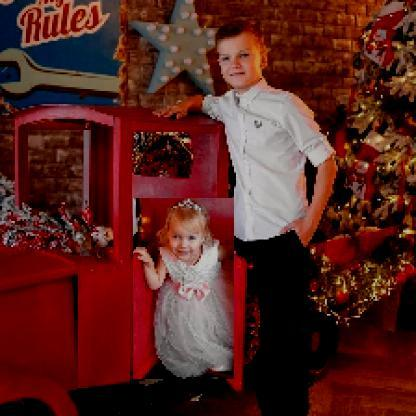child: (134, 199, 236, 381)
